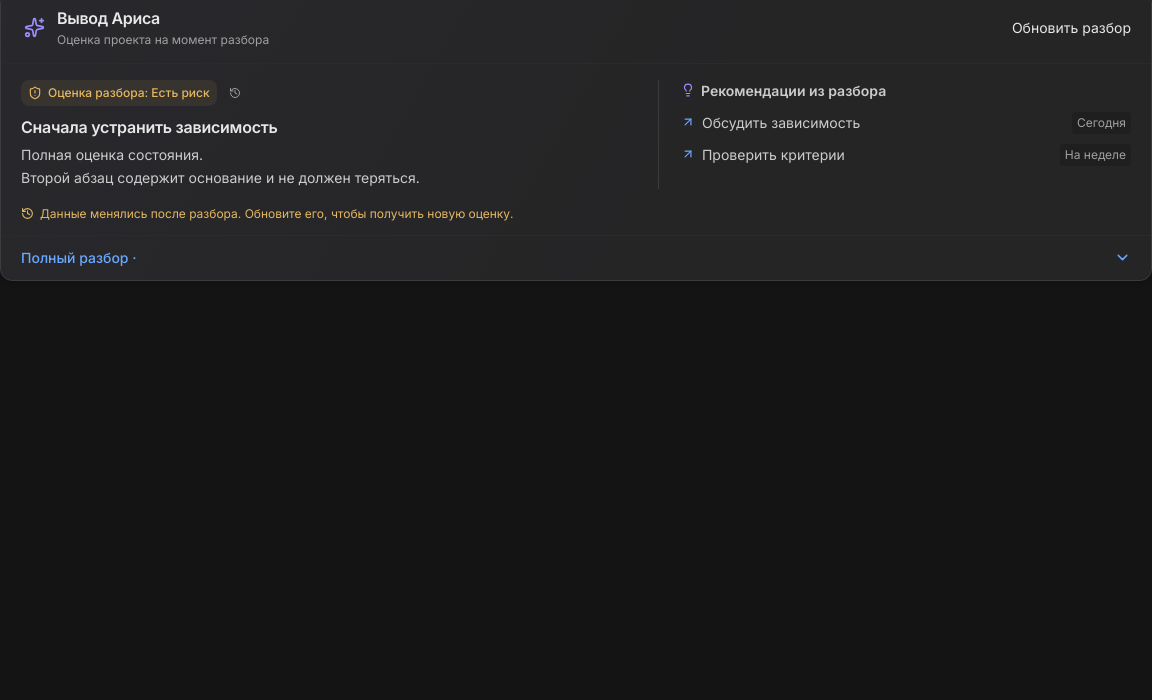
раскрывает каждый пункт, основание и задачу полного отчёта без повторения текста оценки
Later steps or results of the test are not shown.
Click the heading "Полный разбор ·".
click(79, 258)  # box [21,250,1131,266]
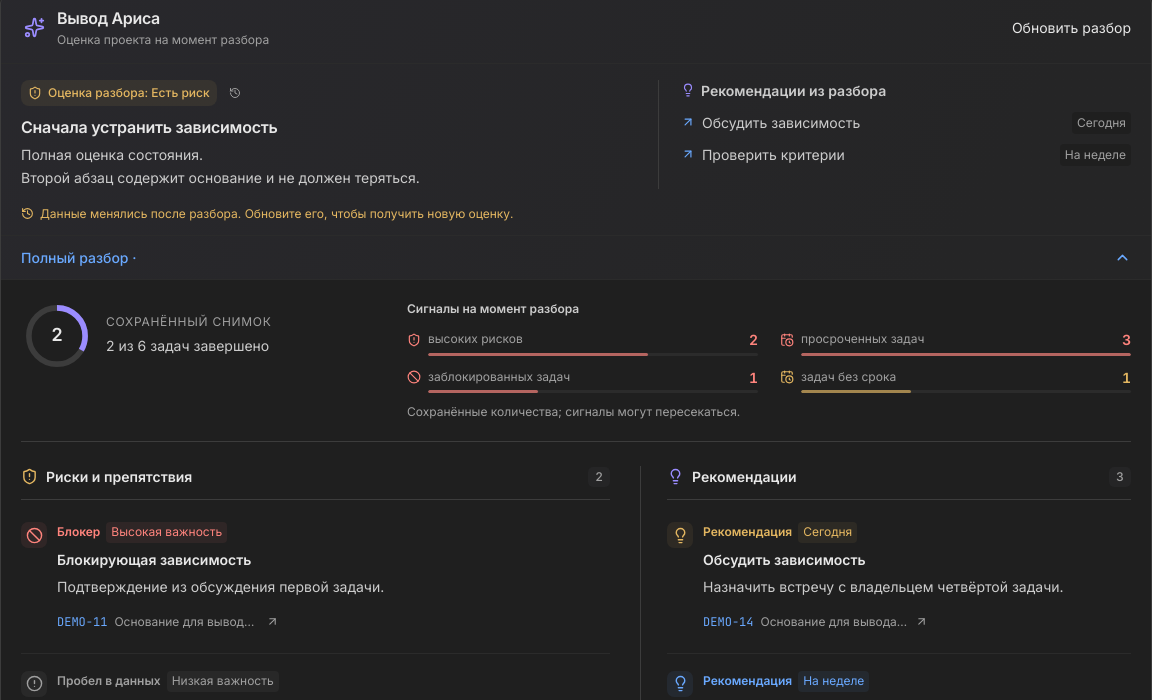
Expected: the picture named "Сохранённый снимок: завершено 2 из 6 задач" is shown, [21,300,93,372]
Expected: the text "Сохранённые количества; сигналы могут пересекаться." is shown, [407,404,740,419]
Expected: the text "Высокая важность" is shown, [106,522,227,543]
Click the button "DEMO-11 Основание для вывода 11".
click(168, 622)  # box [52,608,284,636]
(page scrolled)
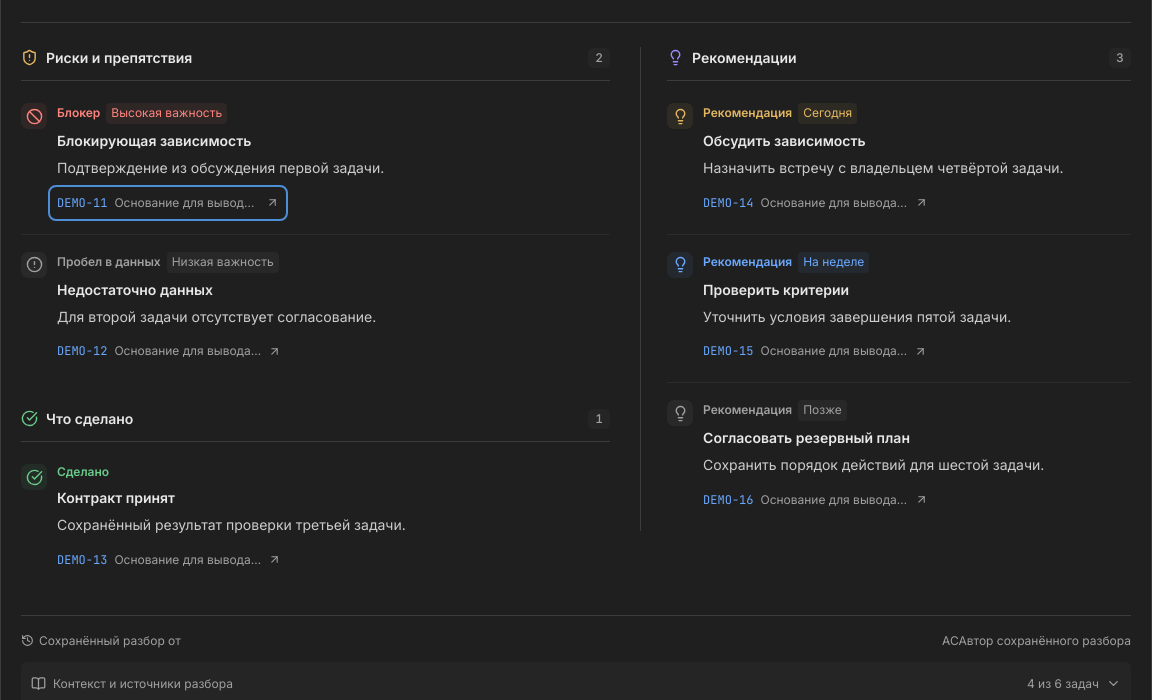
Expected: the heading "Недостаточно данных" is shown, [57,280,213,298]
Expected: the text "Для второй задачи отсутствует согласование." is shown, [57,308,376,324]
Click the button "DEMO-12 Основание для вывода 12".
click(169, 351)  # box [52,337,286,365]
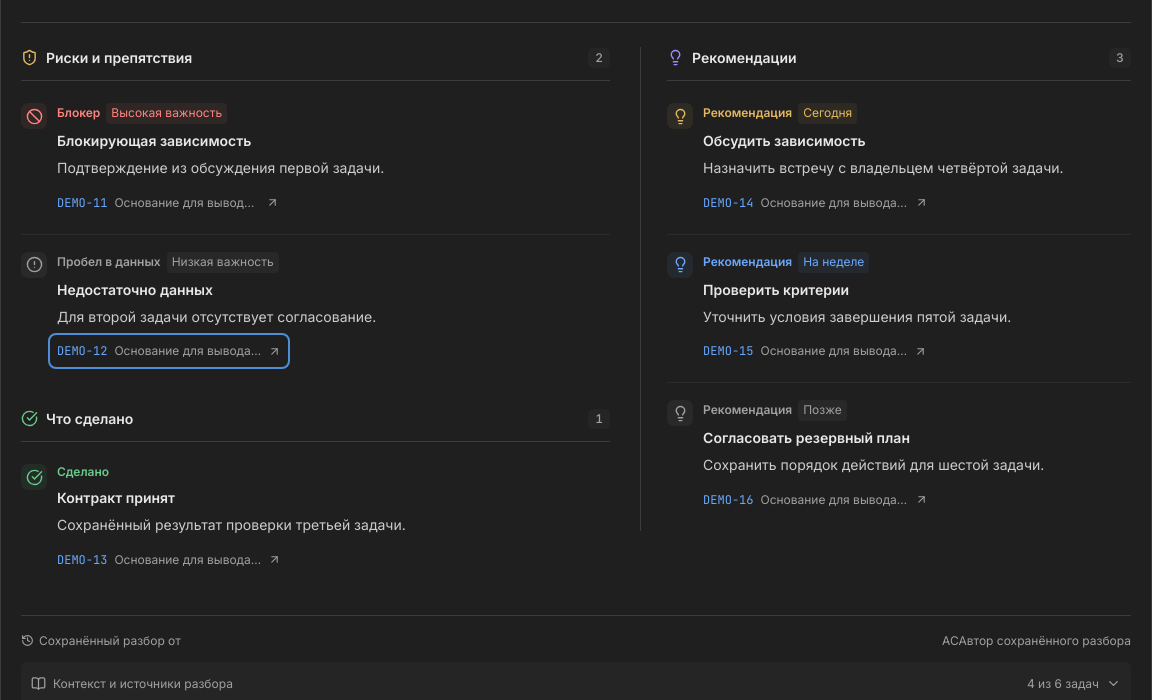
Expected: the heading "Контракт принят" is shown, [57,489,175,506]
Expected: the text "Сохранённый результат проверки третьей задачи." is shown, [57,516,406,533]
Click the button "DEMO-13 Основание для вывода 13".
click(169, 560)  # box [52,546,286,574]
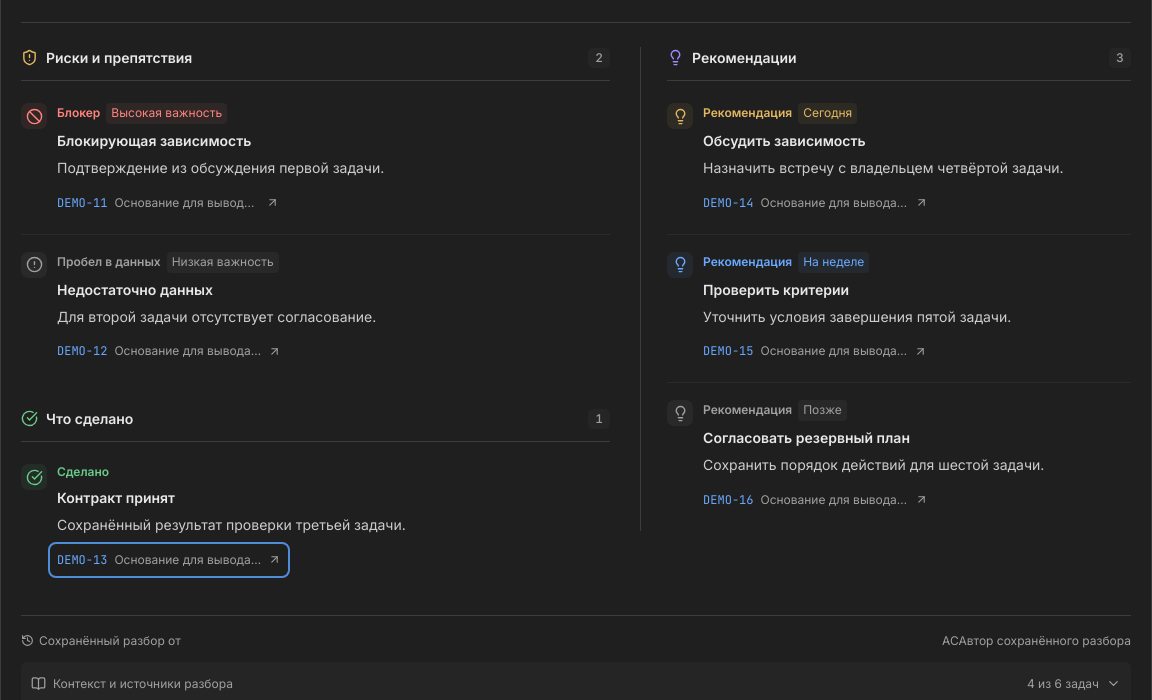
Expected: the heading "Обсудить зависимость" is shown, [703,132,866,149]
Expected: the text "Назначить встречу с владельцем четвёртой задачи." is shown, [703,159,1064,176]
Click the button "DEMO-14 Основание для вывода 14".
click(815, 203)  # box [698,189,933,217]
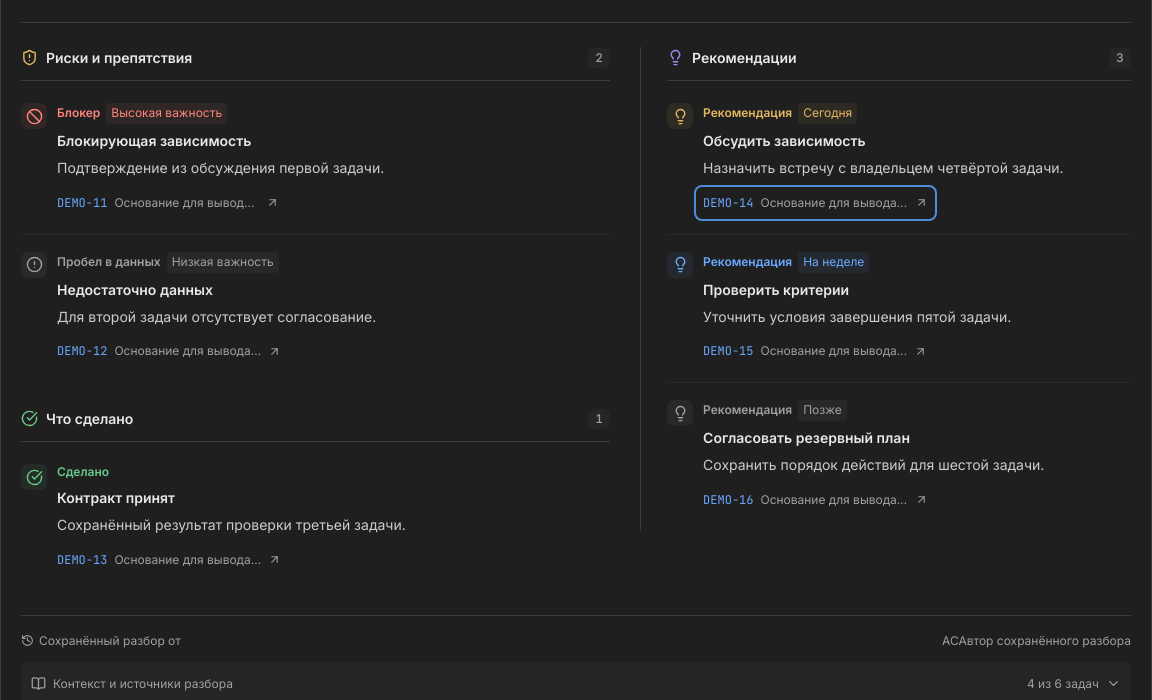
Expected: the heading "Проверить критерии" is shown, [703,280,849,298]
Expected: the text "Уточнить условия завершения пятой задачи." is shown, [703,308,1011,324]
Click the button "DEMO-15 Основание для вывода 15".
click(815, 351)  # box [698,337,932,365]
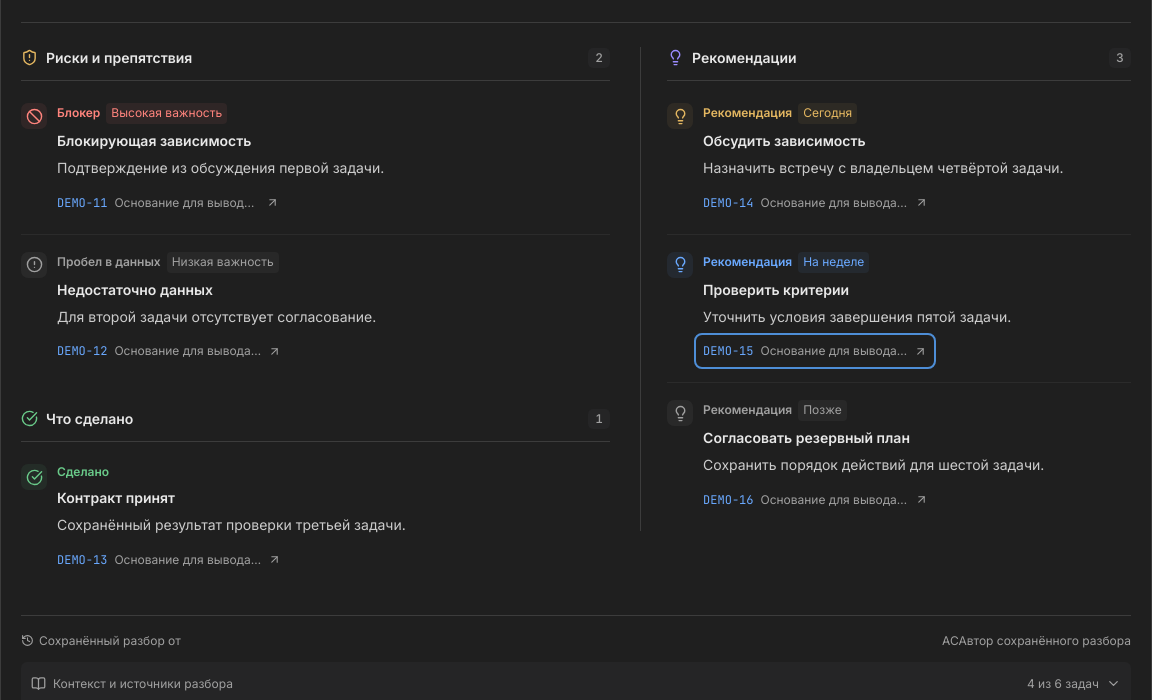
Expected: the heading "Согласовать резервный план" is shown, [703,429,910,446]
Expected: the text "Сохранить порядок действий для шестой задачи." is shown, [703,456,1044,473]
